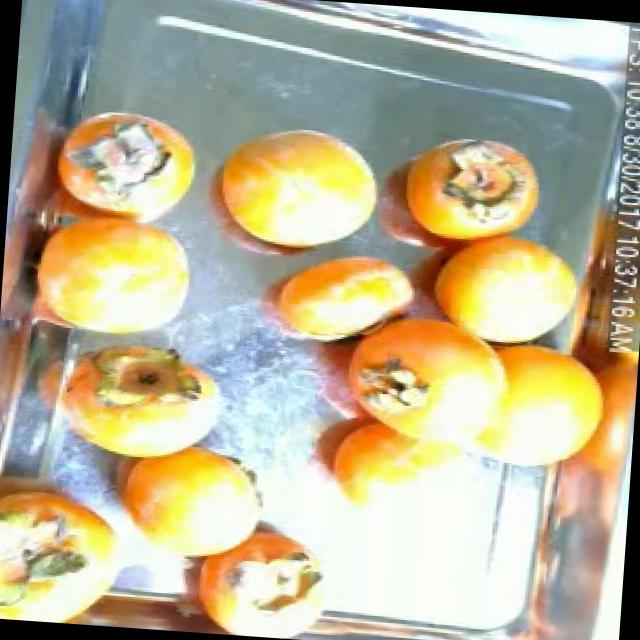Fruit: (182, 106, 398, 268), (5, 192, 213, 356), (32, 326, 236, 476), (90, 425, 277, 569), (425, 218, 593, 356), (420, 126, 552, 246)
